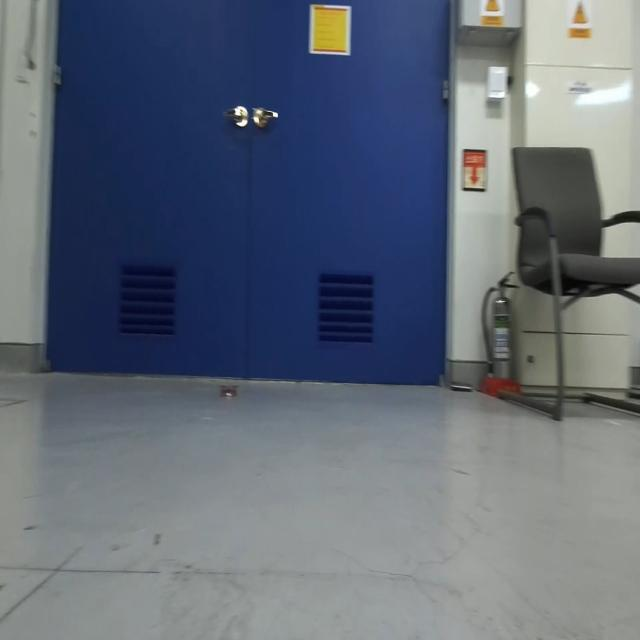crazyflie: (215, 380, 241, 404)
